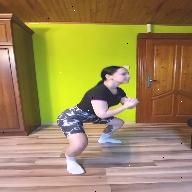squats: (42, 46, 144, 178)
